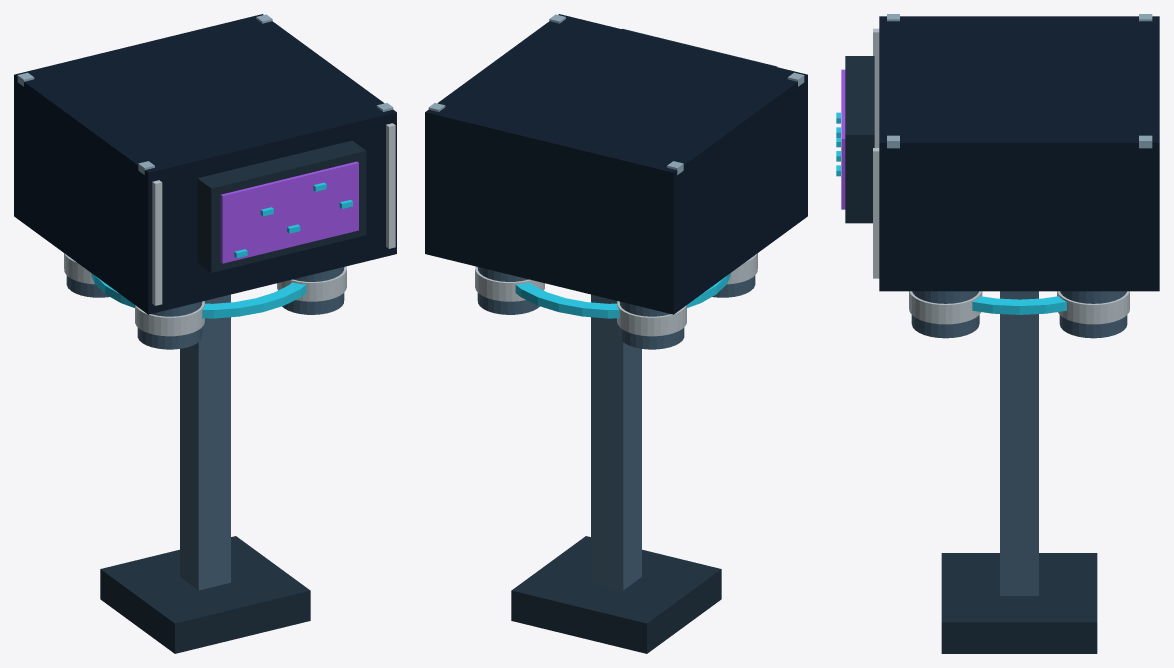
The model's file is 49_L74_OverlayAlignmentMetrologySystem.fbx.
3 views of the same model, side by side, from view 1: azimuth 30°, elevation 25°; view 2: azimuth 150°, elevation 25°; view 3: azimuth 270°, elevation 25° (orthographic). The views are drawn at different scales.
Parts seen in each view (by area): view 1: OverlayAlignmentMetrologySystem_Part_0003, OverlayAlignmentMetrologySystem, OverlayAlignmentMetrologySystem_Part_0118, OverlayAlignmentMetrologySystem_Part_0065, OverlayAlignmentMetrologySystem_Part_0008, OverlayAlignmentMetrologySystem_Part_0064, OverlayAlignmentMetrologySystem_Part_0009, OverlayAlignmentMetrologySystem_Part_0037, OverlayAlignmentMetrologySystem_Part_0038; view 2: OverlayAlignmentMetrologySystem_Part_0003, OverlayAlignmentMetrologySystem, OverlayAlignmentMetrologySystem_Part_0118, OverlayAlignmentMetrologySystem_Part_0011, OverlayAlignmentMetrologySystem_Part_0010, OverlayAlignmentMetrologySystem_Part_0091, OverlayAlignmentMetrologySystem_Part_0092; view 3: OverlayAlignmentMetrologySystem_Part_0003, OverlayAlignmentMetrologySystem, OverlayAlignmentMetrologySystem_Part_0091, OverlayAlignmentMetrologySystem_Part_0037, OverlayAlignmentMetrologySystem_Part_0038, OverlayAlignmentMetrologySystem_Part_0118, OverlayAlignmentMetrologySystem_Part_0092, OverlayAlignmentMetrologySystem_Part_0009, OverlayAlignmentMetrologySystem_Part_0008.
Boxes of the visible parts, x1,y1,x2,y2 form: OverlayAlignmentMetrologySystem_Part_0003: (14,14,396,314); OverlayAlignmentMetrologySystem: (100,140,366,653); OverlayAlignmentMetrologySystem_Part_0118: (91,273,306,318); OverlayAlignmentMetrologySystem_Part_0065: (135,301,204,336); OverlayAlignmentMetrologySystem_Part_0008: (152,180,162,305); OverlayAlignmentMetrologySystem_Part_0064: (137,301,202,349); OverlayAlignmentMetrologySystem_Part_0009: (386,123,395,248); OverlayAlignmentMetrologySystem_Part_0037: (282,267,344,314); OverlayAlignmentMetrologySystem_Part_0038: (277,266,346,301); OverlayAlignmentMetrologySystem_Part_0003: (425,14,807,314); OverlayAlignmentMetrologySystem: (511,28,777,653); OverlayAlignmentMetrologySystem_Part_0118: (515,273,730,318); OverlayAlignmentMetrologySystem_Part_0011: (617,301,686,336); OverlayAlignmentMetrologySystem_Part_0010: (619,301,684,349); OverlayAlignmentMetrologySystem_Part_0091: (477,267,539,314); OverlayAlignmentMetrologySystem_Part_0092: (475,266,544,301); OverlayAlignmentMetrologySystem_Part_0003: (879,16,1159,291); OverlayAlignmentMetrologySystem: (836,56,1097,653); OverlayAlignmentMetrologySystem_Part_0091: (1059,291,1127,338); OverlayAlignmentMetrologySystem_Part_0037: (911,291,979,338); OverlayAlignmentMetrologySystem_Part_0038: (909,291,982,324); OverlayAlignmentMetrologySystem_Part_0118: (972,296,1066,314); OverlayAlignmentMetrologySystem_Part_0092: (1057,291,1129,324); OverlayAlignmentMetrologySystem_Part_0009: (873,148,879,278); OverlayAlignmentMetrologySystem_Part_0008: (873,28,879,147).
Size of the model in its own units: 77.12 by 154 by 83.1.
